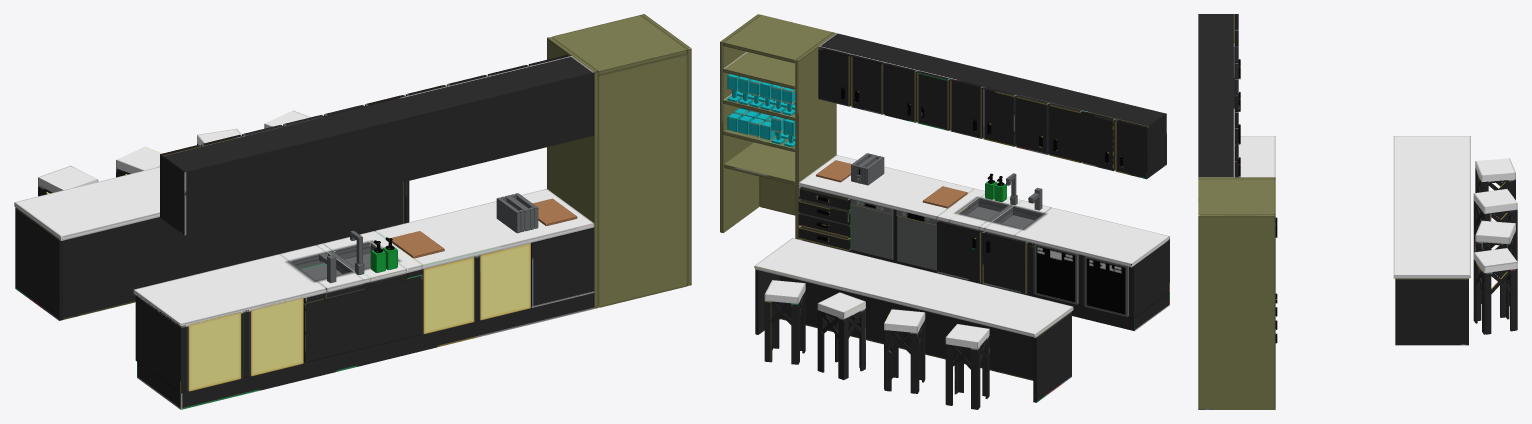
The model's file is kitchen_unit_1.fbx.
3 views of the same model, side by side, from view 1: azimuth 30°, elevation 25°; view 2: azimuth 150°, elevation 25°; view 3: azimuth 270°, elevation 25° (orthographic). The views are drawn at different scales.
Visible parts, largest first — view 1: cube_70, cube_98, cube_242, cube_6, cube_23, cube_17, cube_239, cube_1, cube_96, cube_91, cube, cube_241 (+12 smaller); view 2: cube_239, cube_70, cube_242, cube_17, cube_91, cube_1, cube_92, cube_96, cube_241, cube_12, cube_5, cube_56 (+41 smaller); view 3: cube_92, cube_239, cube_70, cube_240, cube_96, cube_17, cube_305, cube_243, cube_284, cube_326, cube_254, cube_256.
Boxes of the visible parts, x1,y1,x2,y2 form: cube_70: (162, 56, 594, 235); cube_98: (598, 53, 687, 307); cube_242: (59, 182, 404, 319); cube_6: (137, 293, 594, 409); cube_23: (302, 253, 422, 362); cube_17: (133, 254, 326, 327); cube_239: (14, 167, 159, 240); cube_1: (375, 189, 594, 268); cube_96: (552, 15, 687, 75); cube_91: (547, 37, 597, 308); cube: (531, 227, 594, 307); cube_241: (15, 207, 62, 320); cube_239: (754, 238, 1073, 337); cube_70: (818, 33, 1166, 177); cube_242: (780, 275, 1033, 380); cube_17: (1014, 208, 1169, 267); cube_91: (795, 32, 836, 239); cube_1: (798, 155, 974, 219); cube_92: (720, 14, 760, 233); cube_96: (723, 15, 832, 63); cube_241: (1033, 311, 1071, 402); cube_12: (982, 231, 1028, 294); cube_5: (937, 220, 982, 282); cube_56: (1034, 244, 1078, 304); cube_92: (1198, 214, 1275, 409); cube_239: (1393, 136, 1470, 278); cube_70: (1198, 14, 1234, 178); cube_240: (1395, 278, 1468, 345); cube_96: (1198, 179, 1275, 214); cube_17: (1238, 136, 1275, 177); cube_305: (1473, 189, 1517, 213); cube_243: (1473, 248, 1517, 272); cube_284: (1475, 220, 1515, 244); cube_326: (1475, 158, 1515, 181); cube_254: (1510, 269, 1515, 331); cube_256: (1485, 272, 1491, 334).
Size of the model in its own units: 409 by 183 by 271.
5 materials, 5 textured.
